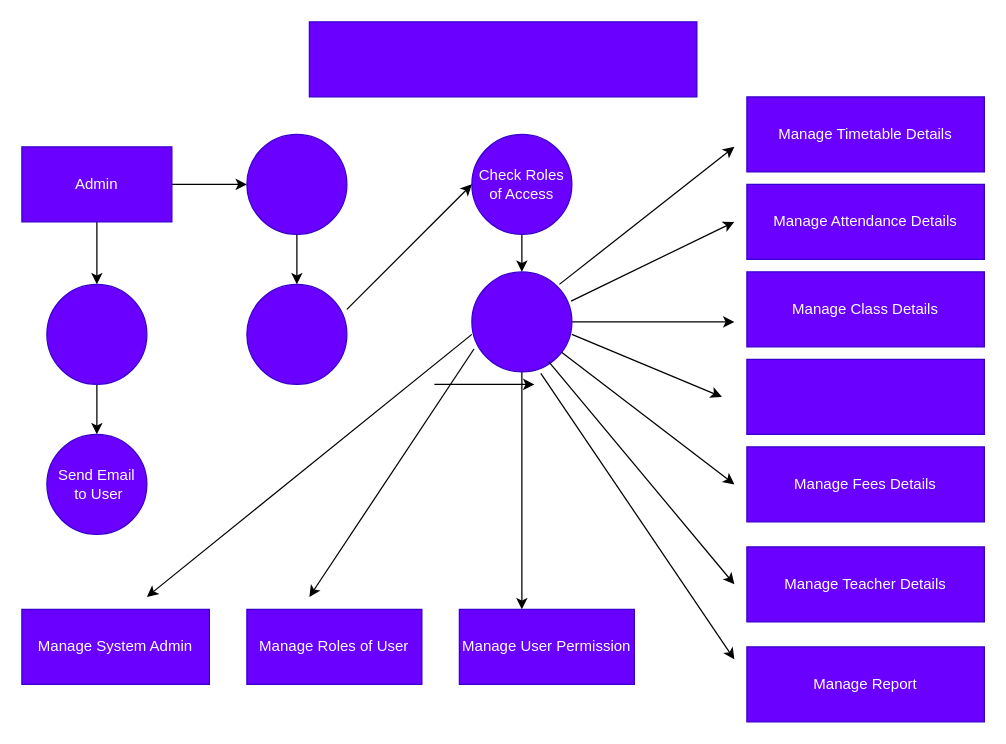
This 1006x744 diagram has some shape labels left out. The shapes that lost their labels are listed below. From the top down, each one's box as (x1, y1, x2, y2) in pixels, then its label:
(308, 21, 697, 97): Student Information System
(246, 133, 347, 234): Login to System
(46, 283, 147, 384): Forgot Password
(246, 283, 347, 384): Check Credentials
(471, 271, 572, 372): Manage Modules
(746, 358, 984, 434): Manage Student Details
